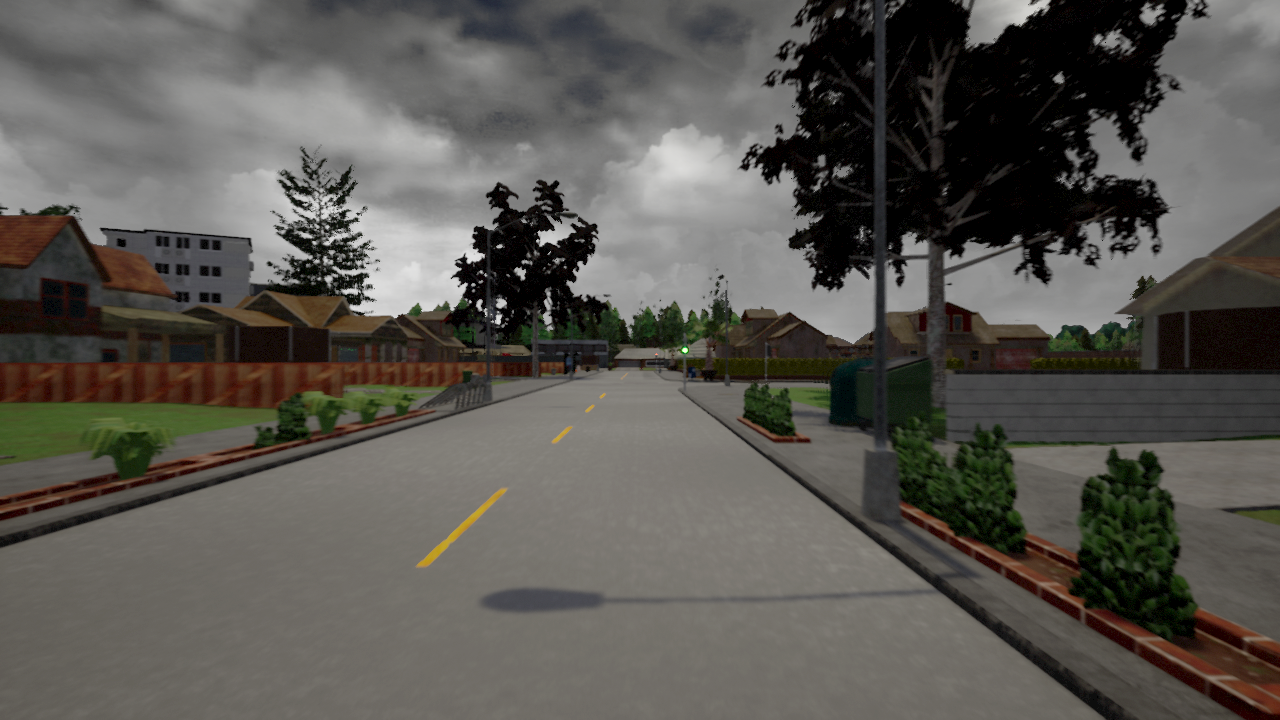green: (680, 335, 689, 354)
